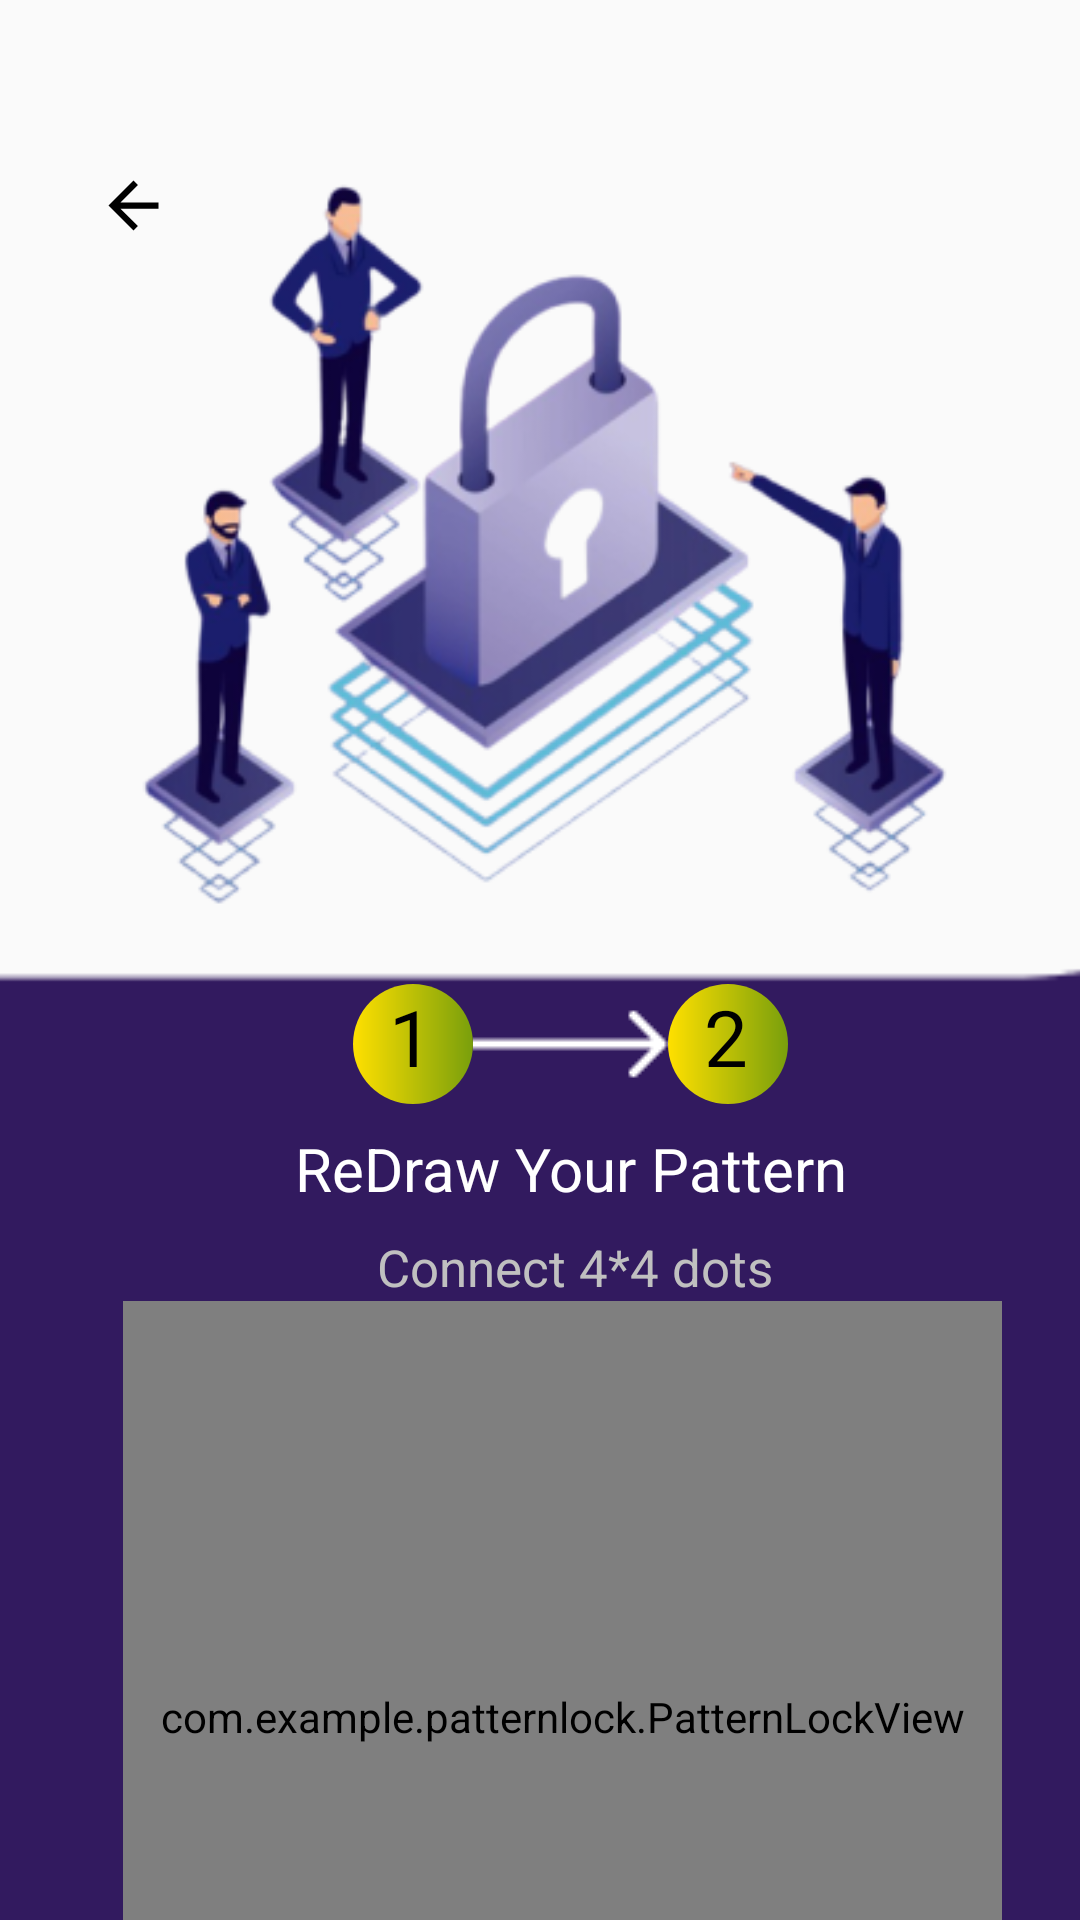

Icons on this 1080 x 1920 Android screen, each with its box as (left=x1, top=y1, right=x2, bottom=y2):
arrow back: (left=108, top=180, right=159, bottom=231)
whitearrow: (left=473, top=1010, right=668, bottom=1078)
